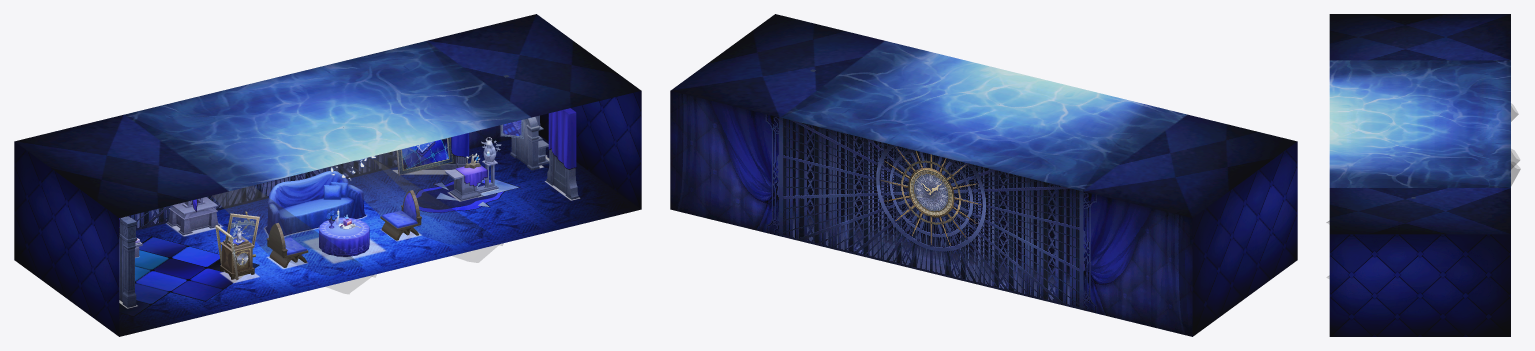
The model's file is velvet.glb.
3 views of the same model, side by side, from view 1: azimuth 30°, elevation 25°; view 2: azimuth 150°, elevation 25°; view 3: azimuth 270°, elevation 25° (orthographic). The views are drawn at different scales.
Visible parts, largest first — view 1: ROOM_room_01, ROOM_floor, ROOM_light, furniM_velvet_checkeredCarpet_01, furniM_velvet_sofa_01, furniM_velvet_fragmentCarpet_01, furniM_velvet_roundTable_01, furniM_velvet_messageBoard_02, furniM_velvet_rightDoor_02, furniM_velvet_leftDoor_01, furniM_velvet_sculpture_02, furniM_velvet_musicPlayer_02 (+11 smaller); view 2: ROOM_room_01, ROOM_Ldoor; view 3: ROOM_room_01, ROOM_Rdoor, ROOM_light.
Part boxes in pixels (<box>): ROOM_room_01: <box>14,14,641,336</box>; ROOM_floor: <box>119,134,640,336</box>; ROOM_light: <box>212,147,502,293</box>; furniM_velvet_checkeredCarpet_01: <box>119,236,259,316</box>; furniM_velvet_sofa_01: <box>265,171,366,235</box>; furniM_velvet_fragmentCarpet_01: <box>415,178,520,212</box>; furniM_velvet_roundTable_01: <box>319,210,369,256</box>; furniM_velvet_messageBoard_02: <box>396,137,466,175</box>; furniM_velvet_rightDoor_02: <box>548,108,576,169</box>; furniM_velvet_leftDoor_01: <box>119,216,136,307</box>; furniM_velvet_sculpture_02: <box>168,197,218,233</box>; furniM_velvet_musicPlayer_02: <box>220,211,259,273</box>; ROOM_room_01: <box>670,14,1297,336</box>; ROOM_Ldoor: <box>1274,213,1287,276</box>; ROOM_room_01: <box>1329,14,1510,336</box>; ROOM_Rdoor: <box>1346,290,1369,336</box>; ROOM_light: <box>1326,104,1520,278</box>.
Bounding box in the file's own units: 10.12 × 2.42 × 3.78.
8 materials, 8 textured.
